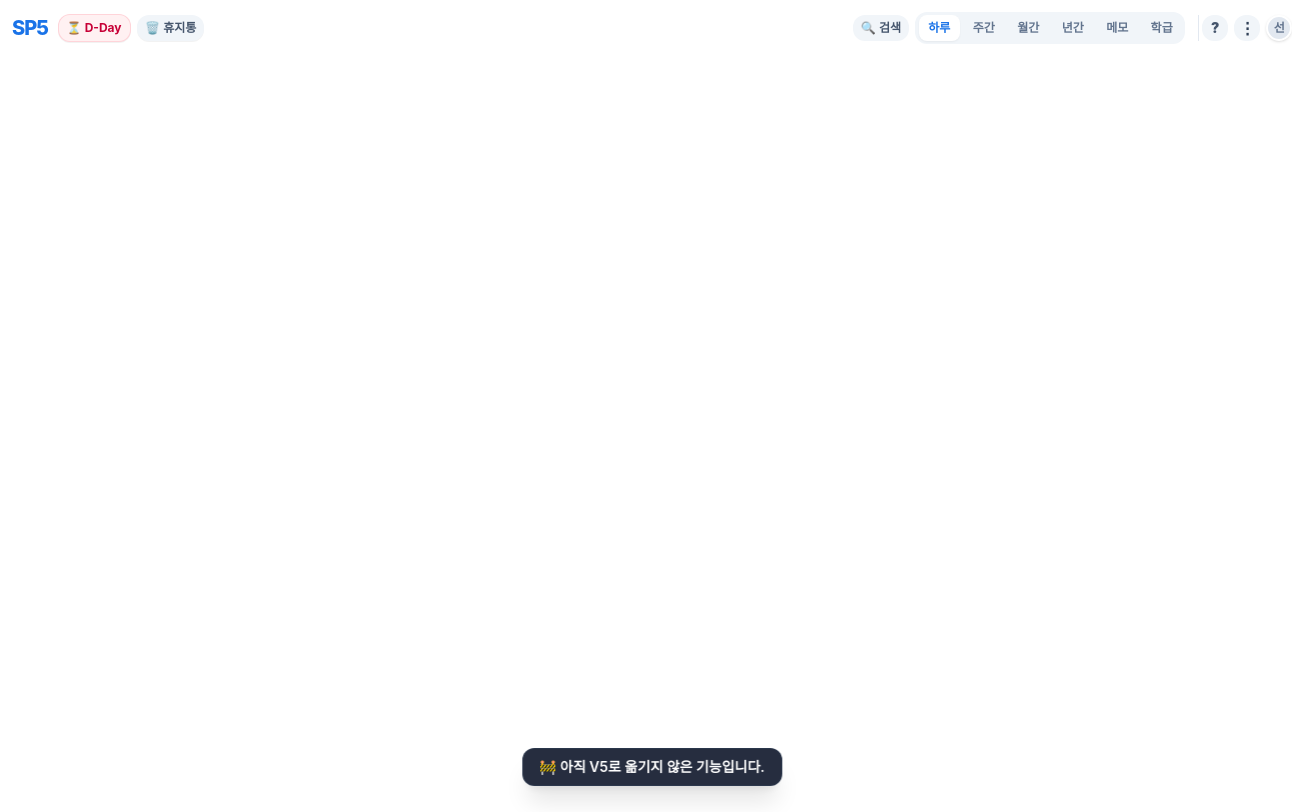
⋮ 메뉴 (MENU.md 3-4) › 메뉴 항목 옆에 정한 단축키를 보인다 (정한 것이 없으면 없다)
The image size is (1304, 812).
Click the button "⋮" at (1247, 28), box top-left (1234, 15), bottom-right (1260, 41)
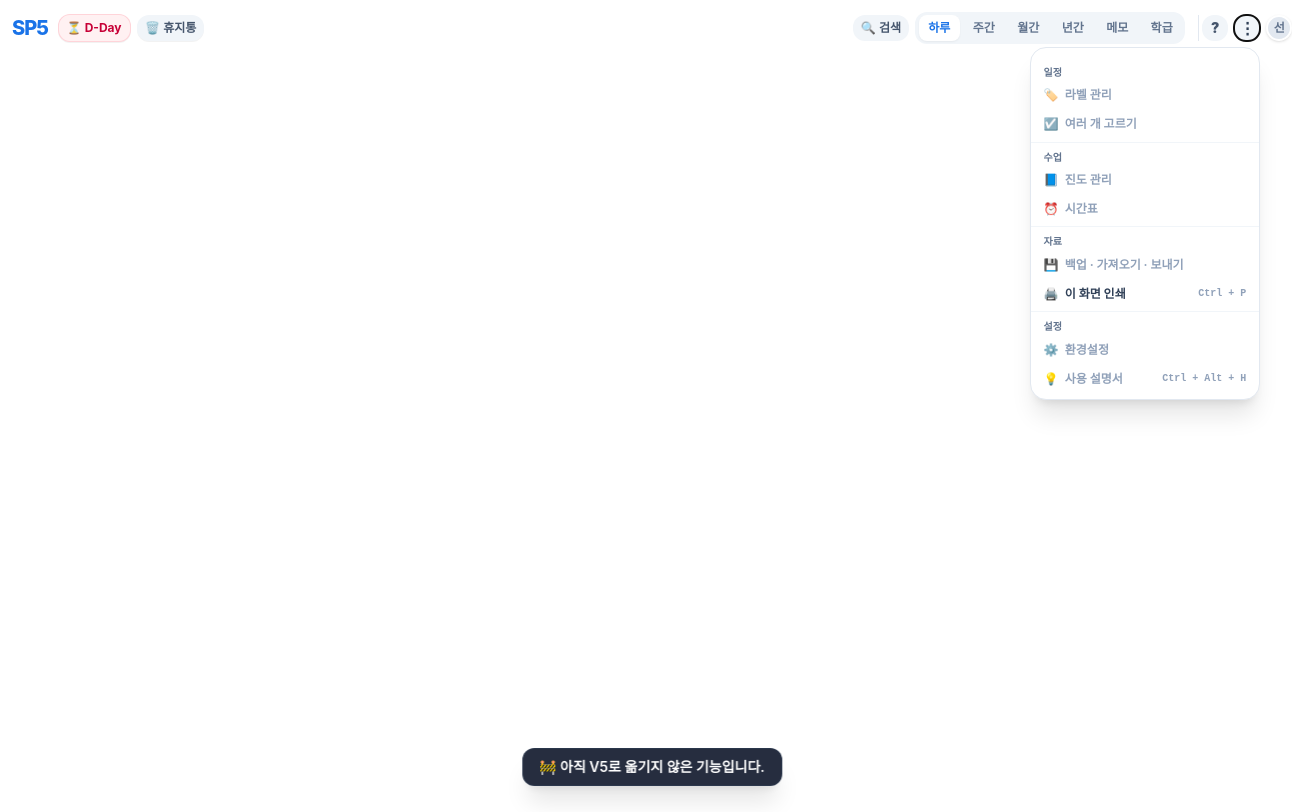
Expected: the text "Ctrl + Alt + H" is shown, top-left (1156, 372), bottom-right (1246, 385)
